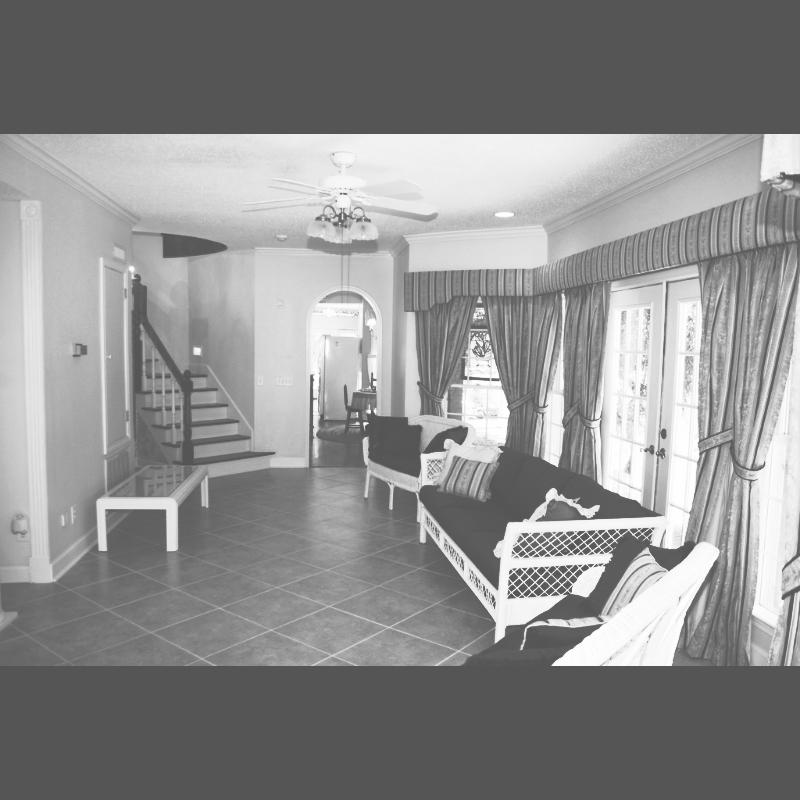pillow: (494, 489, 596, 571), (412, 438, 497, 498), (441, 456, 499, 500)
